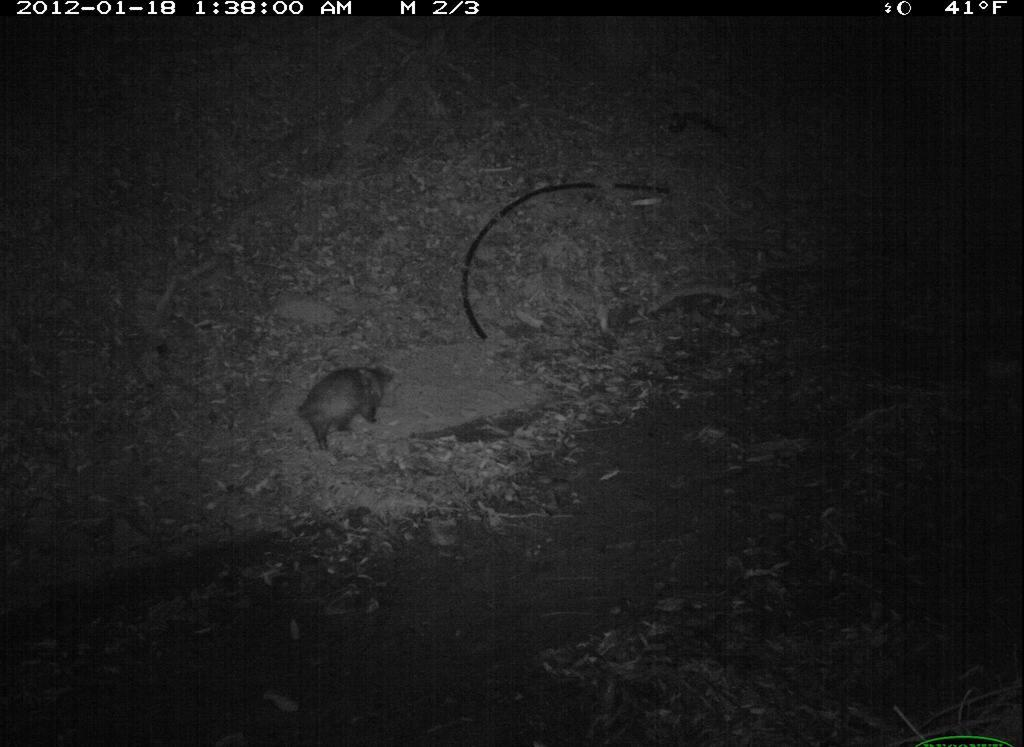opossum: (267, 353, 406, 459)
